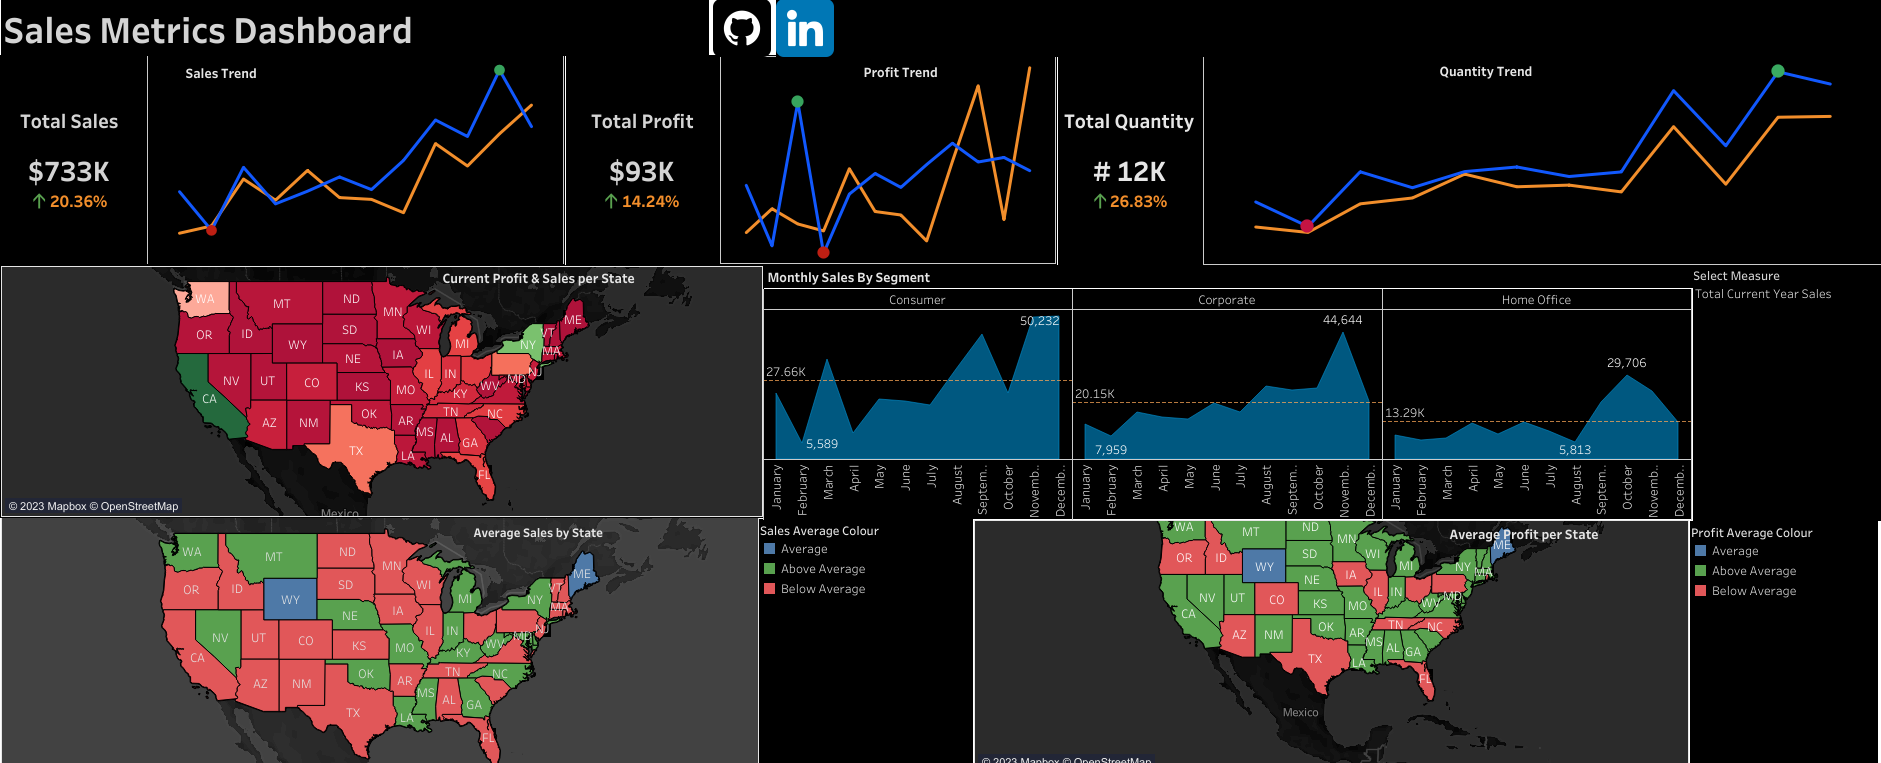

Layout of this report page (visuals, bound fields, positions):
{"tool":"tableau","page":{"name":"Dashboard","canvas":[1000,1000],"units":"permille","ordinal":0},"visuals":[{"type":"text","box":[0.6,0,376.3,73.2]},{"type":"worksheet","title":"Sales Trend","mark":"Automatic","rows":["Calculation_1725441673432367117"],"cols":["Order Date"],"box":[93,72,265.8,275.3]},{"type":"worksheet","title":"Profit KPI","mark":"Automatic","box":[358.9,72,96.8,275.3]},{"type":"worksheet","title":"Profit Trend ","mark":"Automatic","rows":["Max & Min   (copy)_1725441673443201038"],"cols":["Order Date"],"box":[455.7,72,214.6,275.3]},{"type":"worksheet","title":"Quantity KPI","mark":"Automatic","box":[670.2,72,91.8,275.3]},{"type":"worksheet","title":"Quantity Trend","mark":"Automatic","rows":["Max & Min (Profit) (copy)_1725441673593217039"],"cols":["Order Date"],"box":[762,72,238.6,275.3]},{"type":"text","box":[763.3,74.3,81.9,34.8]},{"type":"text","box":[457.5,75.5,66,34.8]},{"type":"text","box":[97.1,77.8,63.5,34.8]},{"type":"text","box":[405.7,344.9,494.3,32.5]},{"type":"parameter","param":"[Parameters].[Parameter 1]","box":[899.4,347.3,101.3,334.5]},{"type":"text","box":[233.5,350.8,165.8,24.4]},{"type":"worksheet","title":"Monthly Sales per Segment","mark":"Area","rows":["Calculation_1725441673691455511"],"cols":["Segment","Order Date"],"box":[405.1,377.5,494.3,304.3]},{"type":"text","box":[250,678.3,107,34.8]},{"type":"legend","title":"Average Sales by State Map","param":"[federated.1ljfh4s13zmw9q13zci1p00wplki].[none:Calculation_1725441673639309331:n","box":[403.2,679.4,113.9,322.9]},{"type":"text","box":[769,680.6,127.9,34.8]},{"type":"text","box":[0,681.8,120.9,34.8]}]}

Visuals, with their boxes on the dashboard's canvas, which has no fixed pixel size, in thousandths of its width and height (x1, y1, x2, y2). These are canvas units, not pixel positions in the 1881x763 screenshot, which may show the page scaled, cropped or inside an application window:
text: 1:0:377:73
"Sales Trend" worksheet: 93:72:359:347
"Profit KPI" worksheet: 359:72:456:347
"Profit Trend " worksheet: 456:72:670:347
"Quantity KPI" worksheet: 670:72:762:347
"Quantity Trend" worksheet: 762:72:1001:347
text: 763:74:845:109
text: 458:76:524:110
text: 97:78:161:113
text: 406:345:900:377
parameter: 899:347:1001:682
text: 234:351:399:375
"Monthly Sales per Segment" worksheet (Area marks): 405:378:899:682
text: 250:678:357:713
"Average Sales by State Map" legend: 403:679:517:1002
text: 769:681:897:715
text: 0:682:121:717
